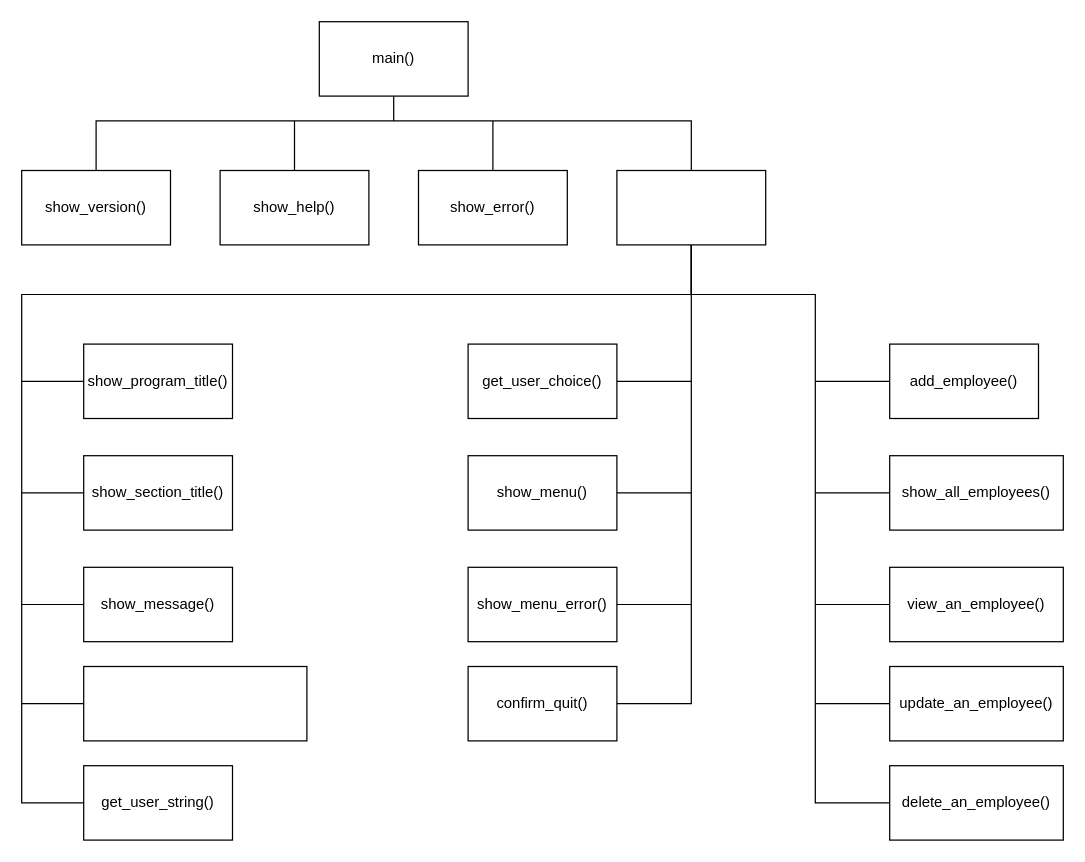
Some shapes in this 1085 by 862 pixel diagram are drawn without their labels. The centre of each missing label's shape, as x and y in pixels:
do_program_logic(): [691,207]
press_enter_key_to_continue(): [194,703]
